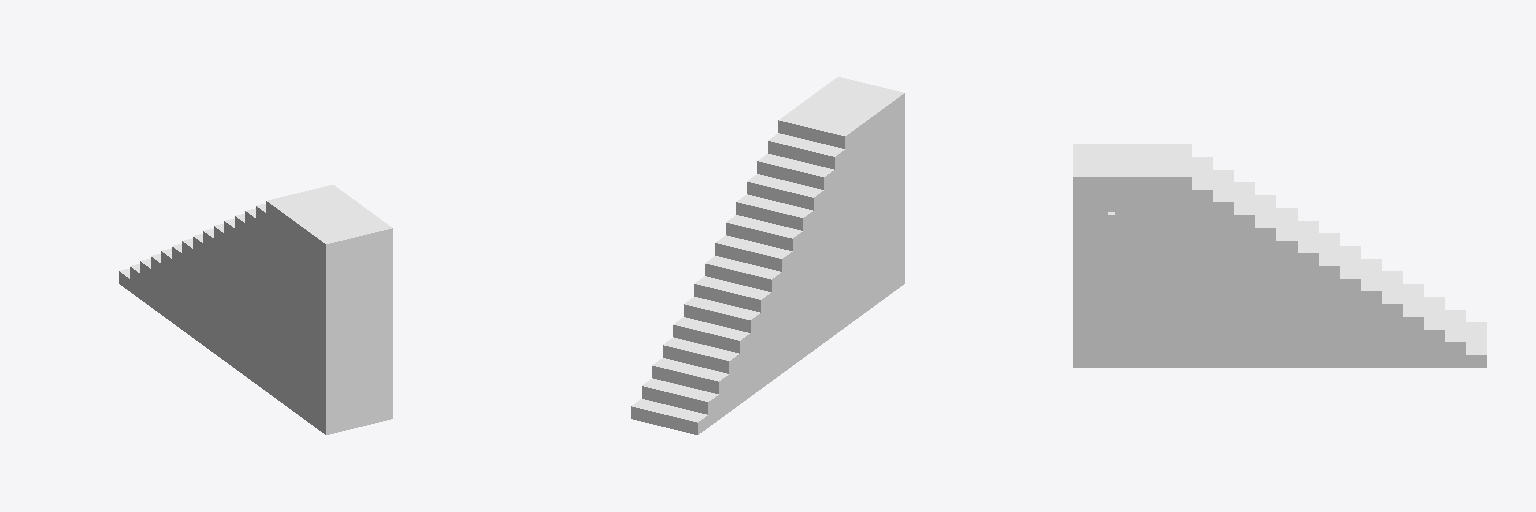
Rendered from Throneroom-Slice-Red.obj.
3 views of the same model, side by side, from view 1: azimuth 30°, elevation 25°; view 2: azimuth 150°, elevation 25°; view 3: azimuth 270°, elevation 25° (orthographic).
Parts seen in each view (by area): view 1: throne-roomobj; view 2: throne-roomobj; view 3: throne-roomobj.
Part boxes in pixels (bbox=[...]): throne-roomobj: bbox=[119, 185, 392, 434]; throne-roomobj: bbox=[631, 77, 904, 434]; throne-roomobj: bbox=[1073, 144, 1486, 367].
Bounding box in the file's own units: 1.1 × 3 × 5.9.